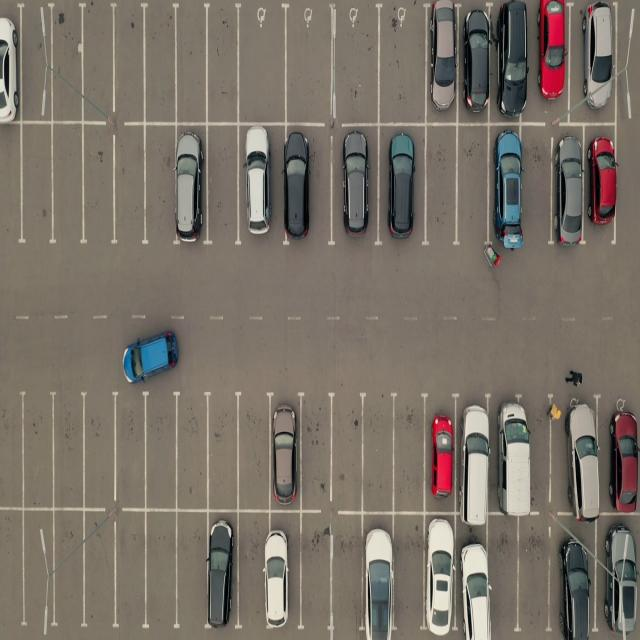space-empty: (286, 7, 337, 124), (238, 5, 288, 123), (375, 5, 424, 124), (332, 6, 380, 124), (46, 512, 88, 630), (517, 514, 556, 632), (204, 5, 242, 124), (142, 4, 180, 123), (16, 126, 53, 248), (46, 4, 84, 122), (175, 4, 212, 124), (205, 125, 242, 244), (112, 129, 149, 248), (142, 393, 180, 508), (78, 392, 116, 507), (78, 130, 115, 248), (17, 511, 54, 629), (111, 4, 148, 122), (328, 394, 366, 508), (79, 512, 116, 629), (17, 394, 54, 511), (115, 511, 151, 631), (176, 392, 213, 508), (115, 392, 152, 508), (50, 128, 86, 247), (78, 2, 114, 121), (331, 514, 366, 636), (237, 393, 274, 508), (142, 512, 178, 630), (457, 126, 492, 247), (392, 398, 429, 512), (50, 395, 87, 509), (141, 124, 176, 242), (205, 394, 241, 508), (358, 396, 394, 510), (296, 394, 332, 508), (423, 123, 457, 243), (235, 512, 269, 632), (15, 4, 50, 120), (296, 513, 330, 632), (394, 514, 427, 636), (486, 516, 519, 636), (177, 512, 210, 630), (523, 125, 554, 244), (0, 386, 24, 506), (0, 509, 24, 629), (0, 127, 22, 248)
space-occupied: (551, 394, 602, 515), (282, 128, 331, 247), (490, 395, 535, 518), (571, 2, 617, 122), (239, 124, 284, 246), (552, 518, 598, 637), (332, 129, 379, 245), (382, 122, 428, 240), (532, 0, 572, 120), (458, 392, 497, 514), (600, 519, 640, 637), (602, 399, 640, 518), (422, 514, 458, 637), (424, 3, 461, 122), (493, 3, 529, 123), (458, 518, 494, 638), (265, 512, 300, 631), (423, 394, 458, 512), (488, 126, 522, 247), (361, 514, 394, 637), (176, 128, 210, 247), (267, 393, 302, 508), (552, 127, 586, 242), (462, 7, 495, 124), (207, 512, 238, 631), (584, 126, 614, 236), (0, 5, 21, 123)
